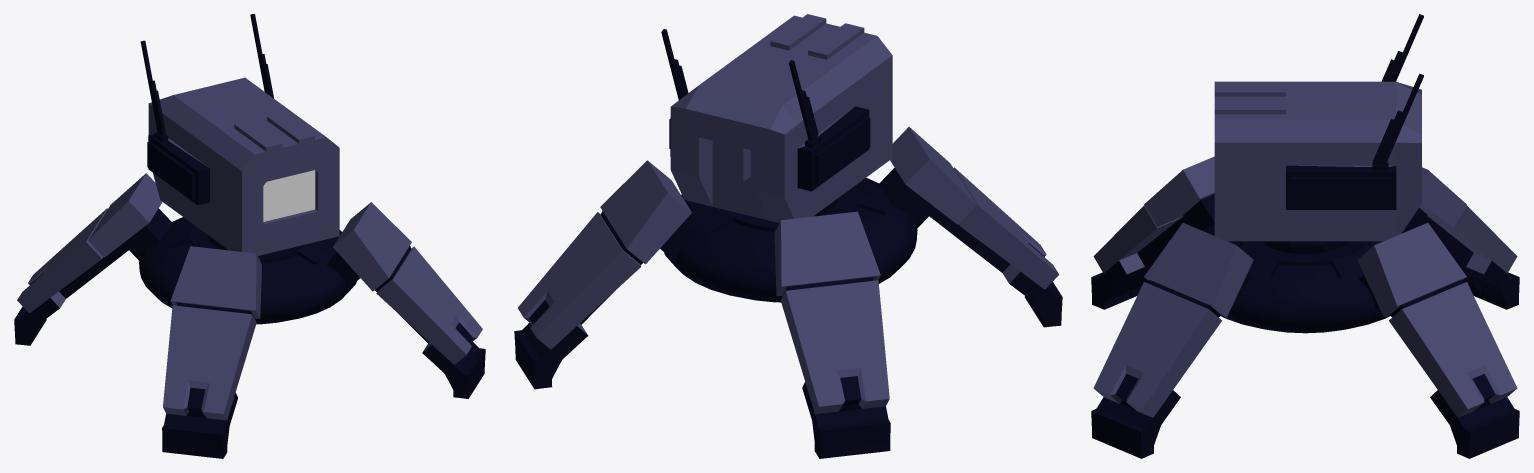
The model's file is LowPoly_SpiderBot_Rzenn.fbx.
3 views of the same model, side by side, from view 1: azimuth 30°, elevation 25°; view 2: azimuth 150°, elevation 25°; view 3: azimuth 270°, elevation 25° (orthographic). The views are drawn at different scales.
Visible parts, largest first — view 1: Head, Leg.01.FR, Leg.01.FL, Body, Leg.01.BR, Leg.00.BR, Leg.00.FL; view 2: Head, Leg.01.BR, Leg.01.BL, Body, Leg.01.FR, Leg.00.FR, Leg.00.BL; view 3: Head, Leg.01.FL, Leg.01.BL, Body, Leg.01.FR, Leg.01.BR, Neck, Leg.00.FR.
Part boxes in pixels (x1,y1,x2,y2): Head: [140, 14, 339, 255]; Leg.01.FR: [162, 246, 261, 458]; Leg.01.FL: [333, 202, 485, 398]; Body: [139, 217, 356, 324]; Leg.01.BR: [14, 173, 162, 345]; Leg.00.BR: [123, 208, 173, 260]; Leg.00.FL: [326, 251, 360, 289]; Head: [661, 14, 892, 222]; Leg.01.BR: [774, 211, 890, 458]; Leg.01.BL: [514, 160, 691, 389]; Body: [664, 177, 917, 302]; Leg.01.FR: [890, 127, 1062, 327]; Leg.00.FR: [877, 168, 936, 228]; Leg.00.BL: [660, 217, 699, 262]; Head: [1214, 14, 1423, 241]; Leg.01.FL: [1091, 223, 1253, 458]; Leg.01.BL: [1357, 223, 1519, 458]; Body: [1202, 225, 1408, 333]; Leg.01.FR: [1091, 156, 1214, 309]; Leg.01.BR: [1419, 167, 1519, 309]; Neck: [1262, 241, 1348, 253]; Leg.00.FR: [1183, 194, 1214, 230].
Bounding box in the file's own units: 468 × 406 × 483.
